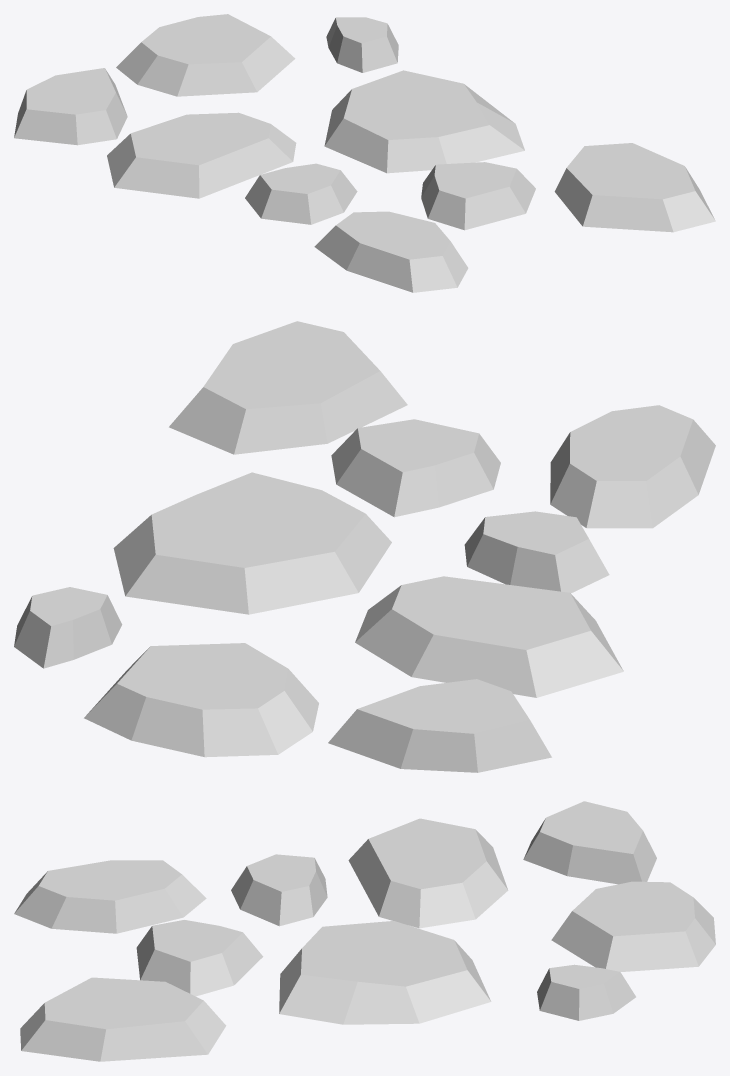
File: stone_001.fbx
3 renders of one model, top to bottom at view 1: azimuth 30°, elevation 25°; view 2: azimuth 150°, elevation 25°; view 3: azimuth 270°, elevation 25°, orthographic. The views are drawn at different scales.
Visible parts, largest first — view 1: stone.001; view 2: stone.001; view 3: stone.001.
Part boxes in pixels (x1,y1,x2,y2): stone.001: (14, 14, 715, 292); stone.001: (14, 321, 715, 772); stone.001: (14, 801, 715, 1061).
Bounding box in the file's own units: 355 × 17.94 × 435.
Materials: 1 (1 with a texture image).
